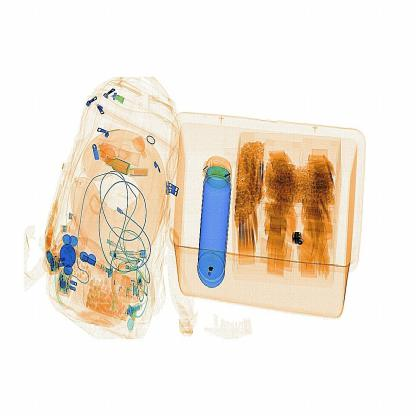scissors: (289, 225, 306, 249)
